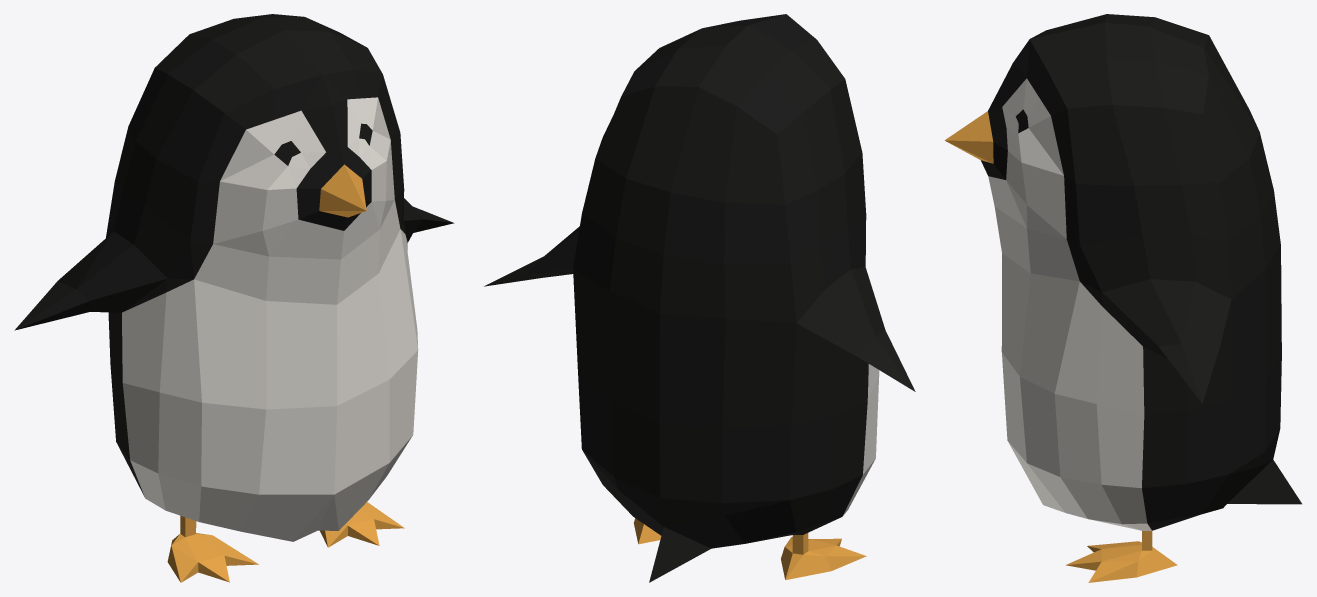
Rendered from Origami_Penguin.fbx.
3 renders of one model, left to right at view 1: azimuth 30°, elevation 25°; view 2: azimuth 150°, elevation 25°; view 3: azimuth 270°, elevation 25°, orthographic. The views are drawn at different scales.
Parts seen in each view (by area): view 1: Cube.002; view 2: Cube.002; view 3: Cube.002.
Part boxes in pixels (left/top/right/bottom): Cube.002: left=14, top=14, right=454, bottom=582; Cube.002: left=484, top=14, right=915, bottom=582; Cube.002: left=944, top=14, right=1301, bottom=582.
Size of the model in its own units: 220 by 248 by 159.
